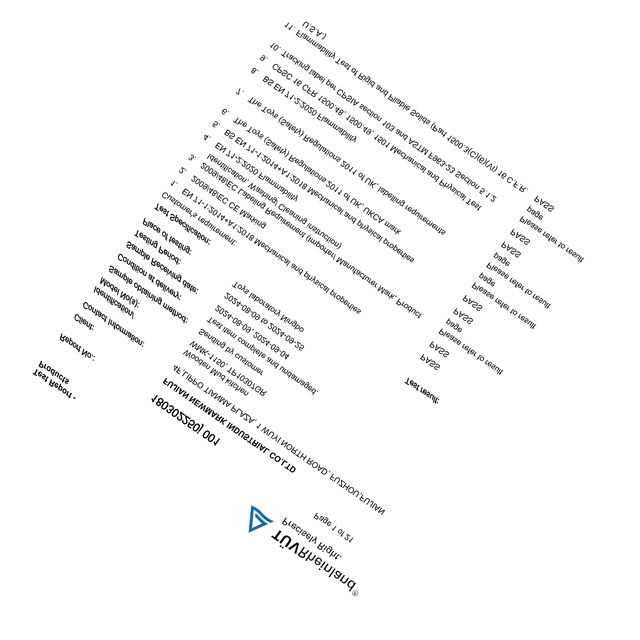tuv_rheinland: (244, 503, 360, 603)
